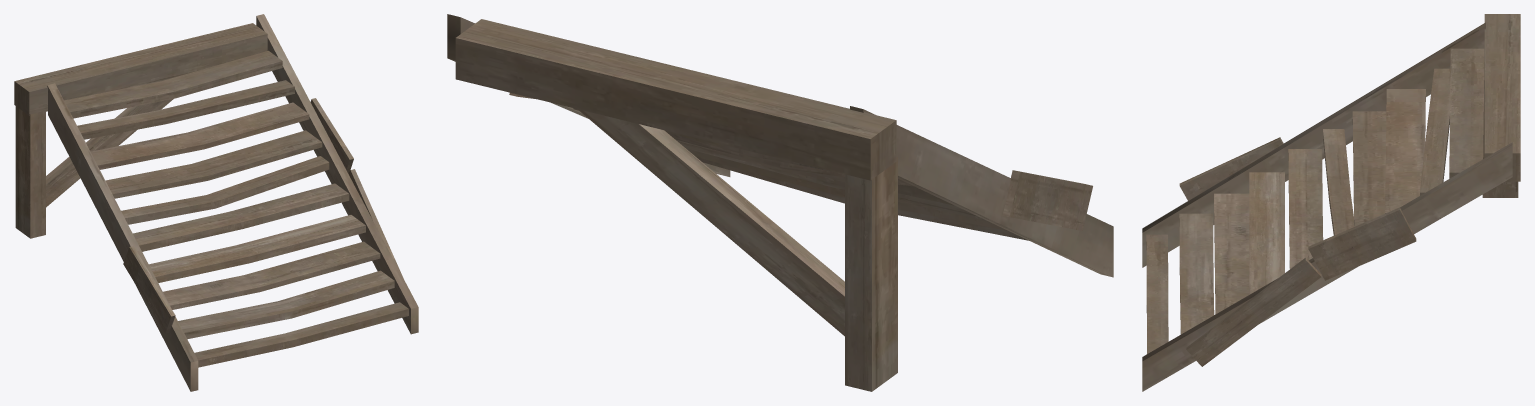
The picture shows the model from 3 angles, left to right: view 1: azimuth 30°, elevation 25°; view 2: azimuth 150°, elevation 25°; view 3: azimuth 270°, elevation 25°; orthographic projection. The views are drawn at different scales.
Visible parts, largest first — view 1: body0_model0_lod0_mesh0; view 2: body0_model0_lod0_mesh0; view 3: body0_model0_lod0_mesh0.
Part boxes in pixels (box(x1,y1,x2,y2)): body0_model0_lod0_mesh0: box(14, 14, 418, 391); body0_model0_lod0_mesh0: box(447, 14, 1113, 391); body0_model0_lod0_mesh0: box(1142, 14, 1520, 391).
Bounding box in the file's own units: 122 × 97.1 × 133.
1 material, 1 textured.
